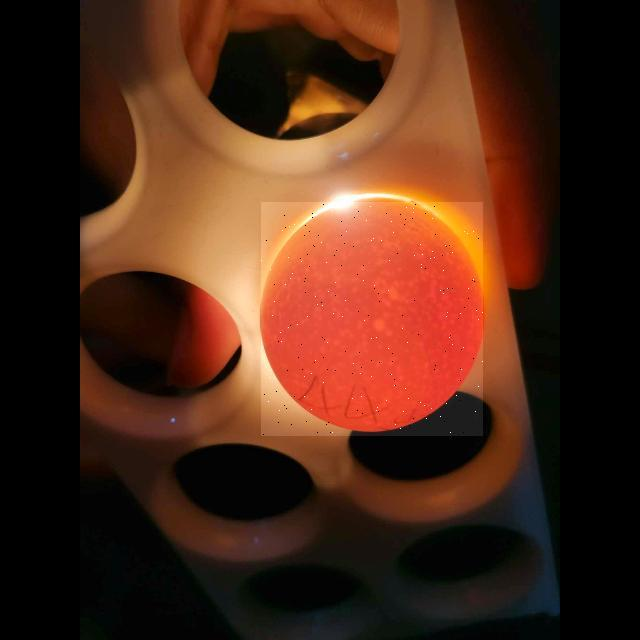Infertile: (261, 202, 483, 436)
